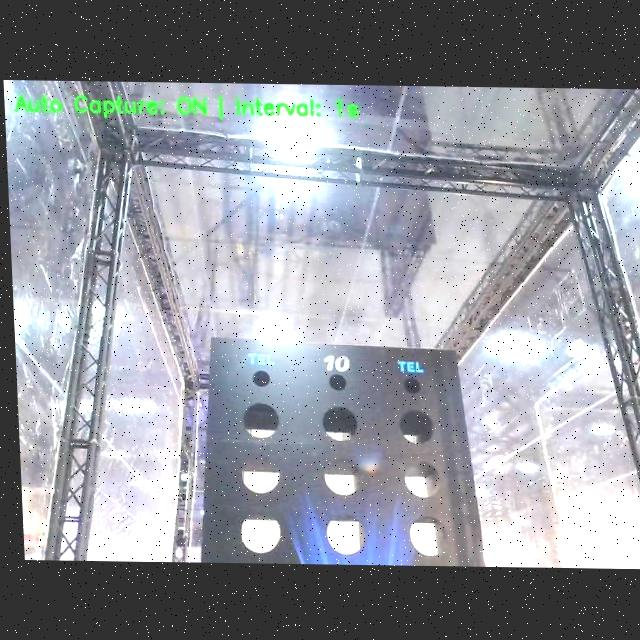hole: (240, 511, 281, 554), (325, 512, 366, 555), (409, 515, 448, 557), (241, 455, 281, 494), (323, 457, 361, 496), (404, 461, 441, 497), (322, 406, 358, 442), (243, 403, 280, 438), (399, 409, 434, 444), (252, 370, 271, 387), (328, 374, 347, 391), (403, 377, 421, 394)
